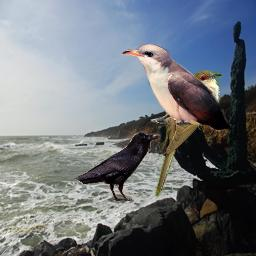Crow: (73, 130, 161, 201)
Cuckoo: (122, 44, 234, 131), (154, 70, 223, 198)
